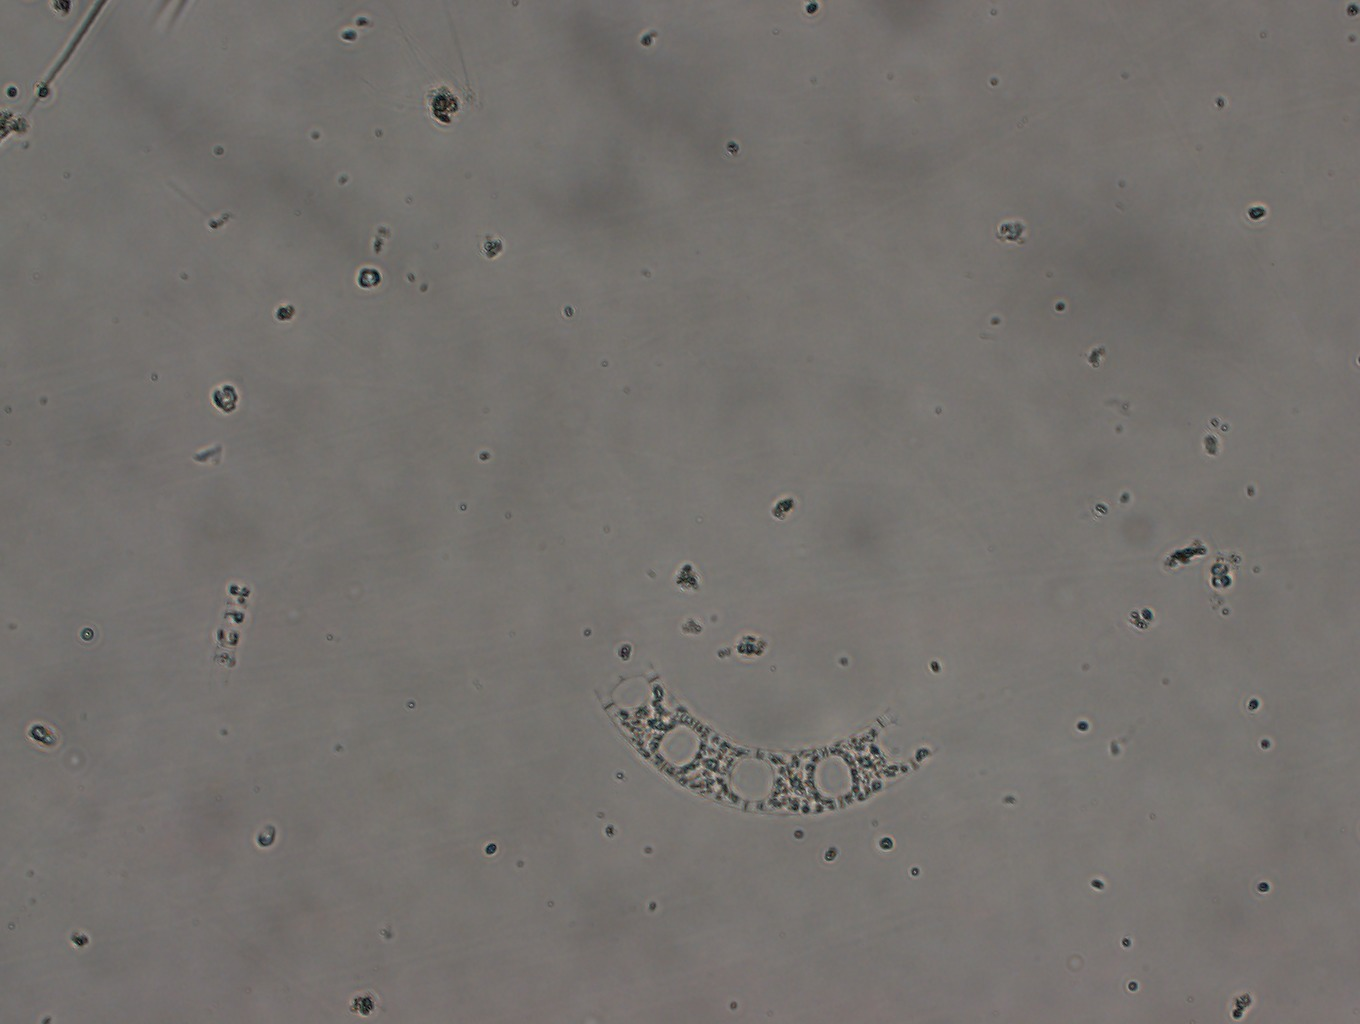eucampia: (593, 658, 940, 817)
